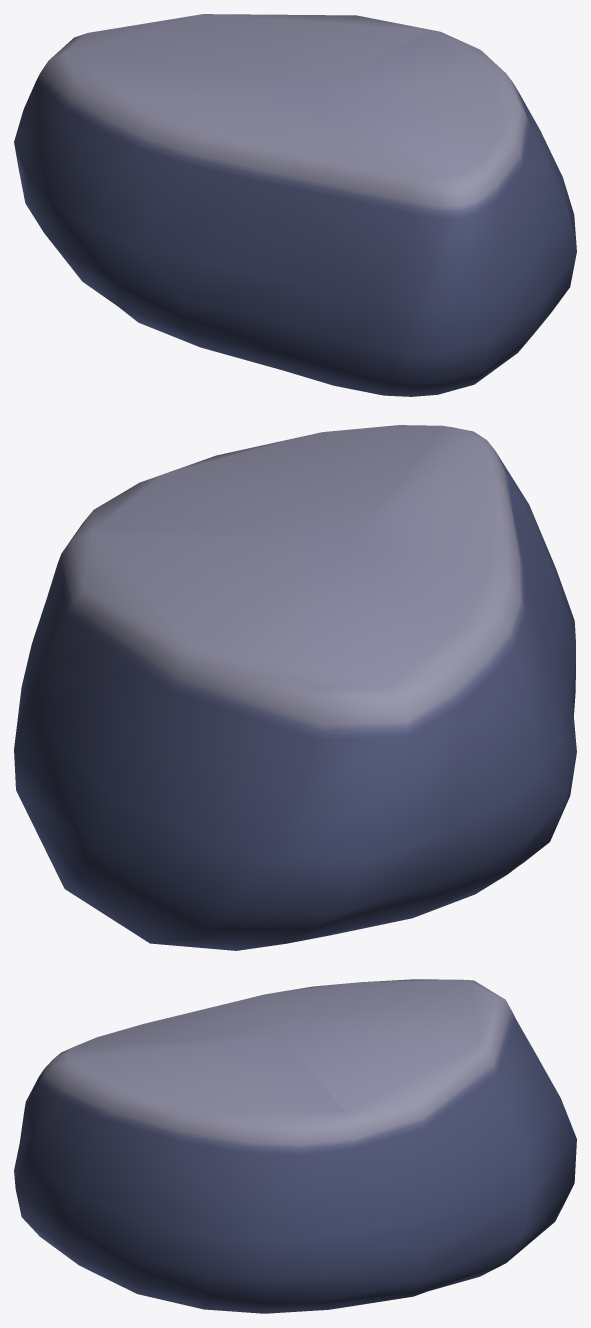
File: block_rock_2_1.fbx
3 renders of one model, top to bottom at view 1: azimuth 30°, elevation 25°; view 2: azimuth 150°, elevation 25°; view 3: azimuth 270°, elevation 25°, orthographic. The views are drawn at different scales.
Visible parts, largest first — view 1: block_rock_2_1; view 2: block_rock_2_1; view 3: block_rock_2_1.
Boxes of the visible parts, x1=… form: block_rock_2_1: x1=14, y1=14, x2=576, y2=396; block_rock_2_1: x1=14, y1=425, x2=576, y2=950; block_rock_2_1: x1=14, y1=979, x2=576, y2=1313.
Size of the model in its own units: 65.46 by 32.43 by 82.09.
